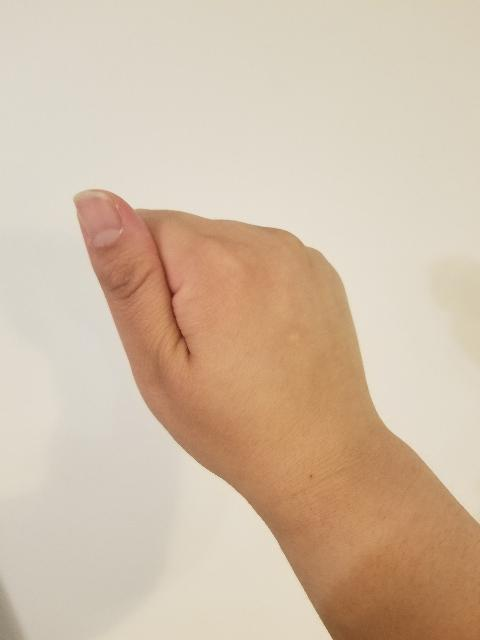A: (66, 180, 400, 522)
